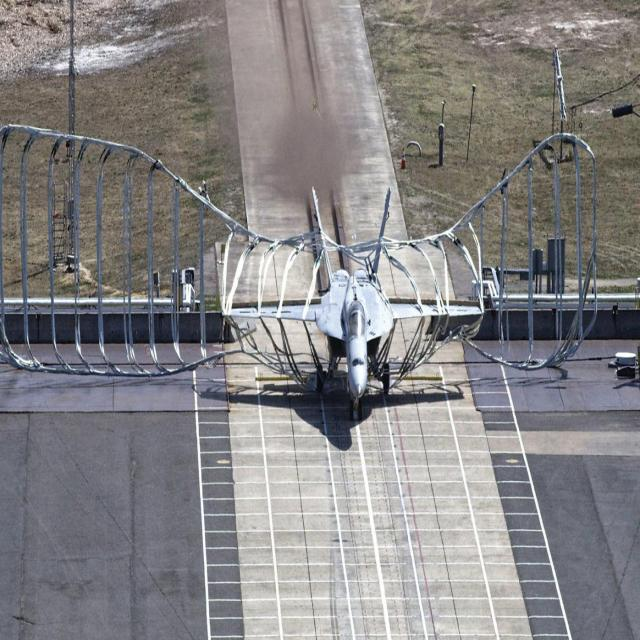MIL_Plane: (221, 185, 484, 422)
